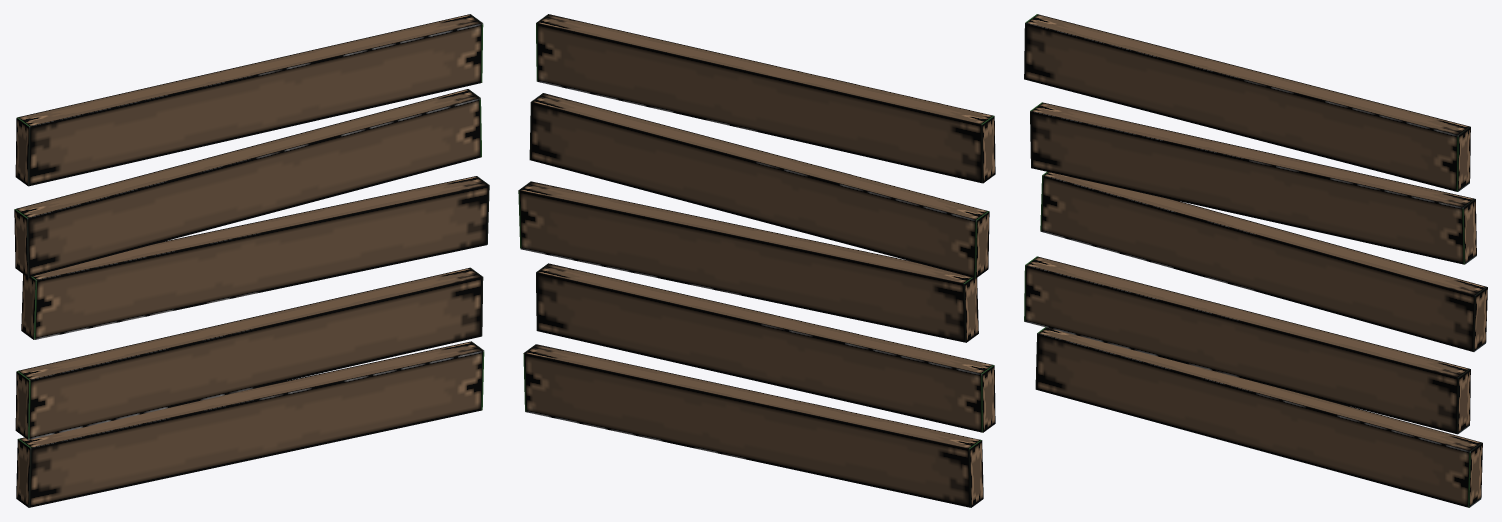
Rendered from deco_winter_woodenFence_longBig.FBX.
3 views of the same model, side by side, from view 1: azimuth 30°, elevation 25°; view 2: azimuth 150°, elevation 25°; view 3: azimuth 330°, elevation 25° (orthographic). The views are drawn at different scales.
Parts seen in each view (by area): view 1: deco_winter_woodenFence_longBig; view 2: deco_winter_woodenFence_longBig; view 3: deco_winter_woodenFence_longBig.
Boxes of the visible parts, <box> form: deco_winter_woodenFence_longBig: <box>14,14,489,507</box>; deco_winter_woodenFence_longBig: <box>518,14,995,507</box>; deco_winter_woodenFence_longBig: <box>1024,14,1487,507</box>.
Size of the model in its own units: 4.11 by 3.37 by 0.2808.
Materials: 1 (1 with a texture image).
